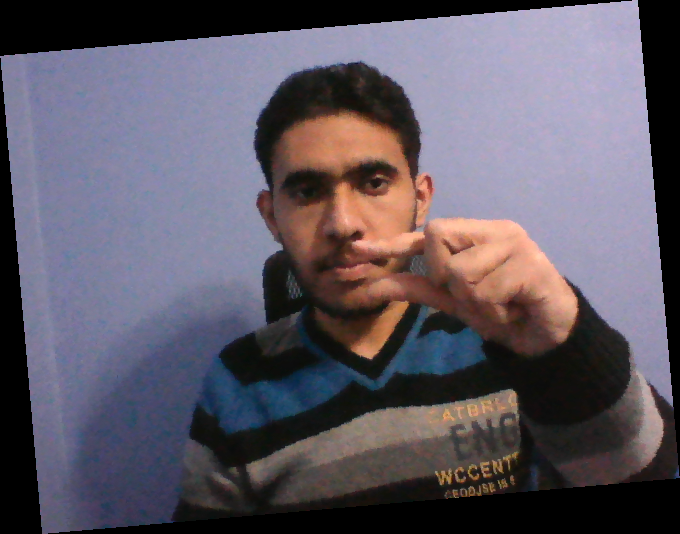G: (343, 212, 583, 370)
